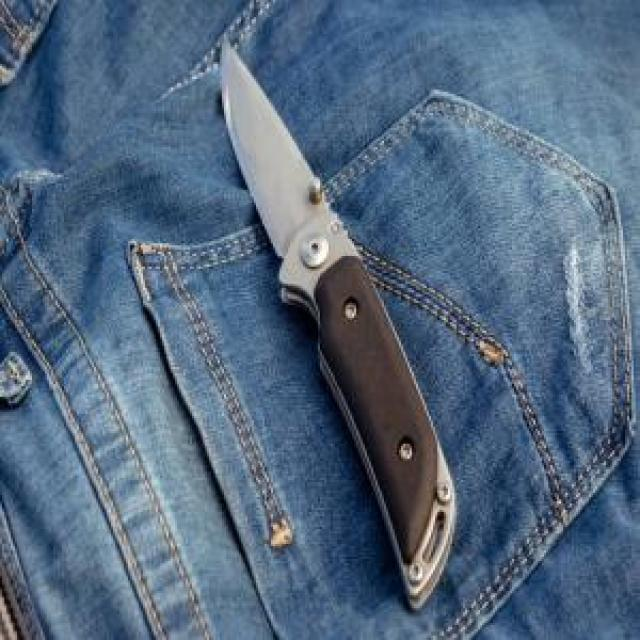knife: (218, 32, 456, 615)
